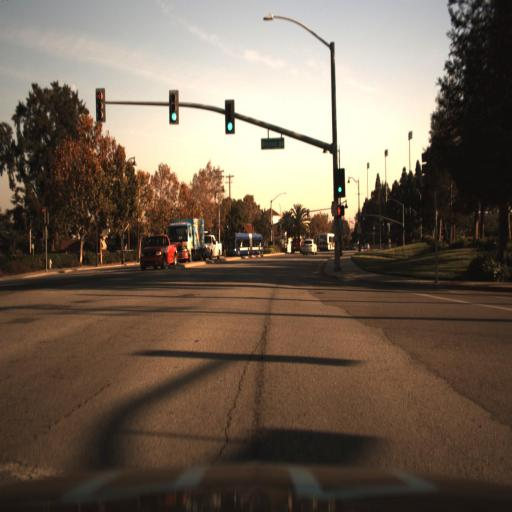car: (138, 234, 177, 270), (318, 231, 344, 255), (202, 232, 224, 260), (297, 234, 318, 257), (300, 238, 318, 256)
trafficLight: (95, 86, 108, 126)
trafficLight-Green: (223, 97, 237, 135), (168, 88, 180, 124), (334, 167, 345, 197)
truck: (167, 212, 205, 260), (232, 228, 266, 258)
